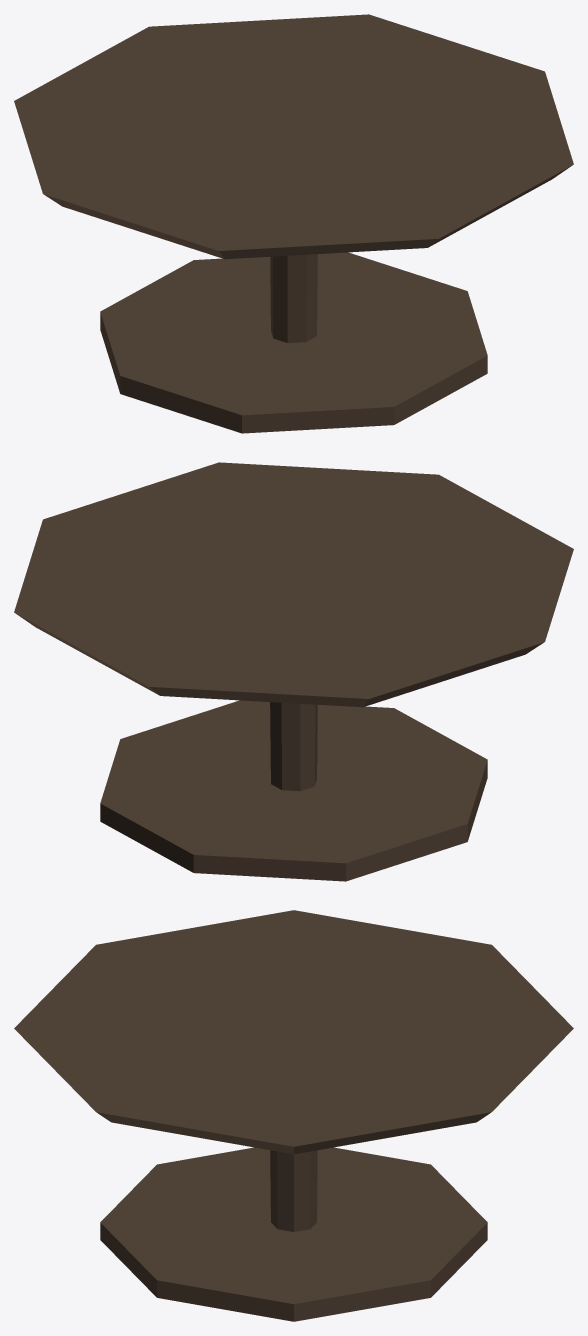
Rendered from table.glb.
3 renders of one model, top to bottom at view 1: azimuth 30°, elevation 25°; view 2: azimuth 150°, elevation 25°; view 3: azimuth 270°, elevation 25°, orthographic. The views are drawn at different scales.
Visible parts, largest first — view 1: Table; view 2: Table; view 3: Table.
Boxes of the visible parts, <box> form: Table: <box>14,14,573,433</box>; Table: <box>14,462,573,881</box>; Table: <box>14,910,573,1321</box>.
Bounding box in the file's own units: 2.17 × 0.905 × 2.17.
